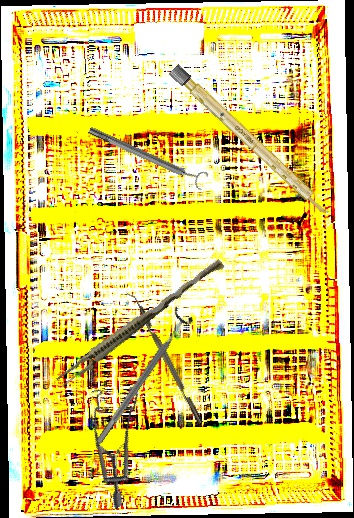Chopper: (123, 289, 204, 428)
Fixation Ring: (88, 306, 196, 450), (85, 120, 210, 192)
Scalpel Handle: (168, 63, 333, 219)
Speculum: (59, 370, 185, 510)
Tissue Forceps: (54, 252, 226, 392)
